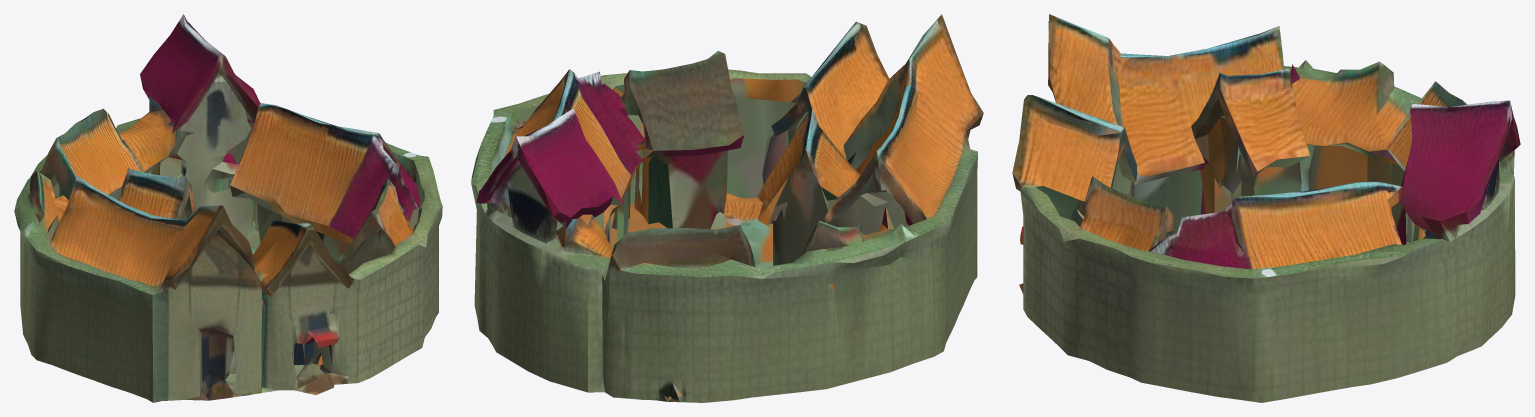
File: tawantinsuyu_vilcabamba.glb
3 renders of one model, left to right at view 1: azimuth 30°, elevation 25°; view 2: azimuth 150°, elevation 25°; view 3: azimuth 270°, elevation 25°, orthographic. The views are drawn at different scales.
Visible parts, largest first — view 1: geometry_0; view 2: geometry_0; view 3: geometry_0.
Part boxes in pixels (x1,y1,x2,y2): geometry_0: (14,14,442,402); geometry_0: (471,14,983,402); geometry_0: (1012,14,1520,402).
Bounding box in the file's own units: 3.4 × 1.69 × 3.36.
1 material, 1 textured.
